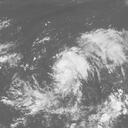cyclone: (50, 49, 89, 96)
